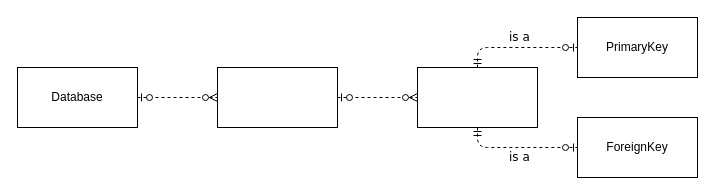
Some shapes in this 715 by 195 pixel diagram are drawn without their labels. The shapes that lost their labels are listed below. From the top down, each one's centre as x and y in pixels, then its label:
(277,97): Table
(477,97): Column
